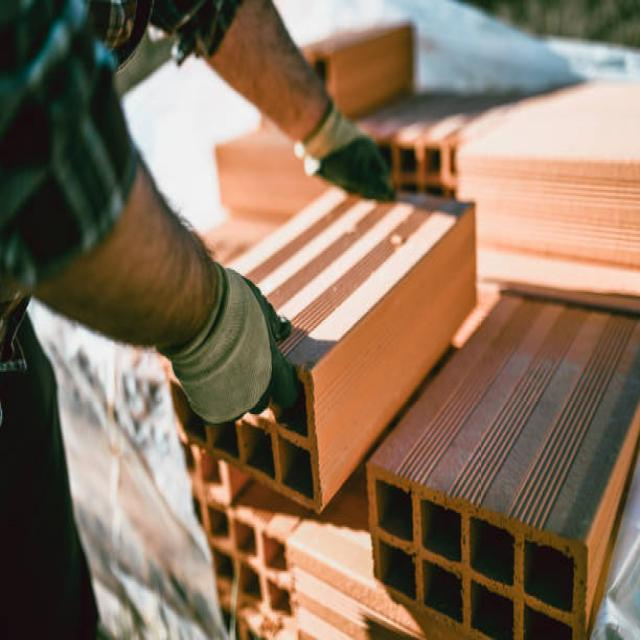gloves: (157, 258, 302, 426), (300, 99, 399, 196)
